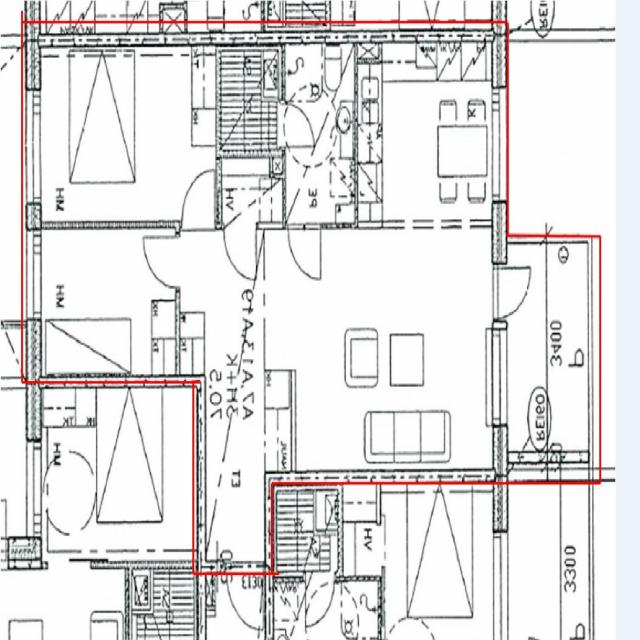door: (228, 561, 264, 631), (492, 268, 538, 318), (288, 222, 320, 279), (143, 237, 179, 287), (224, 222, 256, 278), (183, 172, 214, 228), (278, 104, 312, 146)
